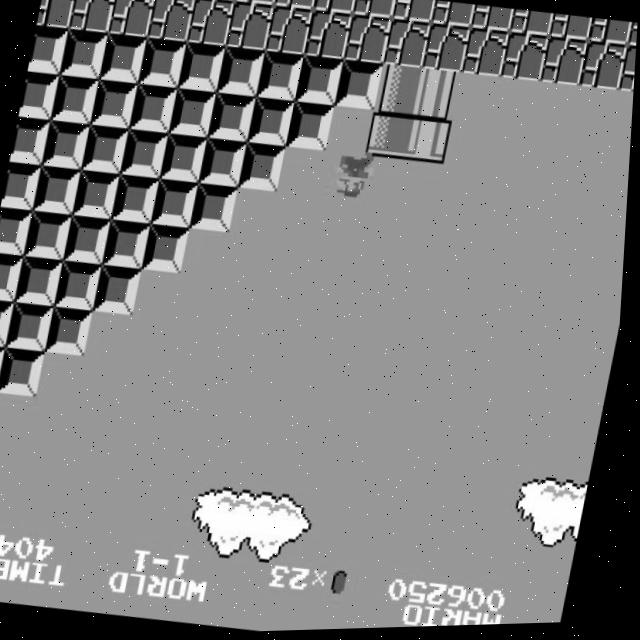11- little_mario: (331, 150, 382, 206)
14- pipe: (414, 70, 463, 122), (375, 66, 424, 118)
15- pipe_head: (405, 115, 455, 167), (366, 111, 415, 163)
17- undestructible_block: (422, 24, 472, 77), (579, 43, 629, 95), (540, 38, 590, 90), (343, 15, 393, 67), (304, 11, 354, 63), (225, 1, 275, 53), (501, 34, 550, 86), (462, 29, 511, 81), (383, 20, 432, 72), (265, 6, 314, 58), (186, 0, 235, 49), (147, 0, 196, 44), (107, 0, 156, 39), (68, 0, 117, 34), (588, 21, 633, 50), (549, 16, 594, 45), (510, 12, 555, 41), (470, 7, 515, 36), (431, 2, 476, 31), (391, 0, 437, 27), (37, 0, 77, 30), (352, 0, 397, 22), (619, 48, 637, 99), (312, 0, 357, 17), (273, 0, 318, 13), (233, 0, 278, 8), (627, 26, 638, 54), (195, 0, 239, 3)
9- hard_block: (256, 52, 306, 104), (217, 47, 267, 99), (169, 88, 219, 140), (177, 42, 227, 94), (138, 38, 188, 90), (48, 305, 98, 357), (56, 260, 106, 312), (90, 78, 140, 130), (17, 256, 67, 308), (34, 164, 84, 216), (60, 28, 109, 81), (239, 143, 289, 194), (104, 220, 154, 271), (121, 129, 171, 180), (82, 124, 132, 175), (0, 347, 50, 398), (42, 120, 92, 171), (335, 61, 384, 113), (287, 102, 336, 154), (296, 56, 345, 108), (248, 97, 297, 149), (192, 183, 241, 235), (209, 92, 258, 144), (152, 179, 201, 231), (96, 265, 145, 317), (113, 174, 162, 226), (130, 83, 179, 135), (74, 169, 123, 221), (99, 33, 148, 85), (9, 301, 58, 353), (51, 74, 100, 126), (200, 139, 249, 190), (144, 225, 193, 276), (161, 134, 210, 185), (65, 216, 114, 267), (26, 211, 75, 262), (11, 117, 53, 167), (3, 161, 44, 212), (28, 25, 69, 76), (20, 71, 61, 121), (0, 207, 35, 258), (0, 253, 27, 303), (0, 297, 18, 348), (0, 343, 10, 394)
